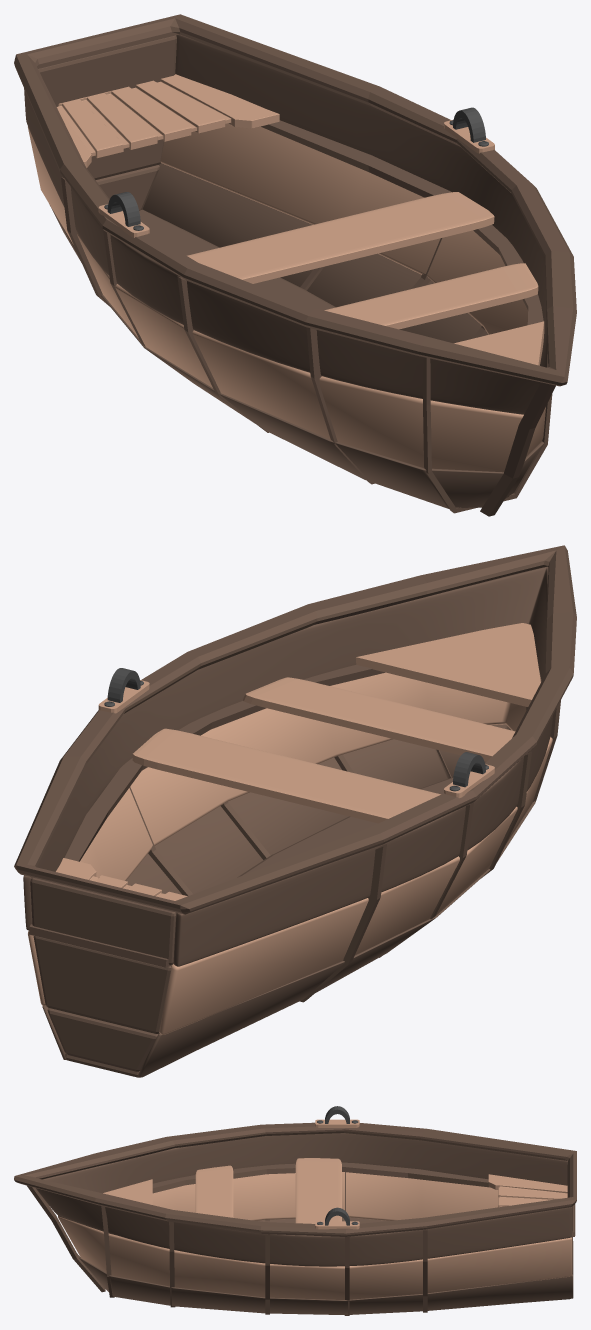
File: boat.fbx
3 renders of one model, top to bottom at view 1: azimuth 30°, elevation 25°; view 2: azimuth 150°, elevation 25°; view 3: azimuth 270°, elevation 25°, orthographic. The views are drawn at different scales.
Parts seen in each view (by area): view 1: Cube.009, Cube.008, Cube.002, Cube.010, Cube.004, Cube.014, Cube.005, Cube.003, Cube.011, Cube.001, Cube, Plane (+5 smaller); view 2: Cube.008, Cube.009, Cube.002, Cube.010, Cube.004, Cube.005, Cube.006, Cube.012, Cube.011, Cube.001, Cube.003, Cube.013 (+4 smaller); view 3: Cube.008, Cube.009, Cube.002, Cube.010, Cube.004, Cube.001, Cube.003, Cube.005, Cube.014, Plane, Cube.006, Cube.015 (+1 smaller).
Boxes of the visible parts, x1=… form: Cube.009: x1=28, y1=123, x2=545, y2=472; Cube.008: x1=24, y1=34, x2=548, y2=414; Cube.002: x1=14, y1=14, x2=576, y2=386; Cube.010: x1=50, y1=163, x2=543, y2=508; Cube.004: x1=187, y1=192, x2=494, y2=283; Cube.014: x1=57, y1=74, x2=279, y2=167; Cube.005: x1=324, y1=263, x2=538, y2=329; Cube.003: x1=61, y1=177, x2=552, y2=513; Cube.011: x1=38, y1=35, x2=176, y2=106; Cube.001: x1=261, y1=120, x2=543, y2=324; Cube: x1=139, y1=209, x2=482, y2=507; Plane: x1=480, y1=382, x2=555, y2=516; Cube.008: x1=23, y1=566, x2=553, y2=966; Cube.009: x1=28, y1=672, x2=552, y2=1034; Cube.002: x1=14, y1=545, x2=576, y2=914; Cube.010: x1=42, y1=724, x2=535, y2=1077; Cube.004: x1=132, y1=728, x2=440, y2=823; Cube.005: x1=243, y1=677, x2=515, y2=761; Cube.006: x1=355, y1=623, x2=540, y2=706; Cube.012: x1=33, y1=936, x2=171, y2=1033; Cube.011: x1=30, y1=877, x2=176, y2=964; Cube.001: x1=29, y1=664, x2=541, y2=967; Cube.003: x1=129, y1=700, x2=560, y2=1002; Cube.013: x1=47, y1=1008, x2=158, y2=1071; Cube.008: x1=36, y1=1133, x2=572, y2=1266; Cube.009: x1=58, y1=1172, x2=572, y2=1299; Cube.002: x1=14, y1=1122, x2=576, y2=1236; Cube.010: x1=79, y1=1217, x2=573, y2=1315; Cube.004: x1=295, y1=1158, x2=341, y2=1223; Cube.001: x1=58, y1=1162, x2=575, y2=1237; Cube.003: x1=101, y1=1172, x2=427, y2=1315; Cube.005: x1=195, y1=1165, x2=233, y2=1217; Cube.014: x1=488, y1=1174, x2=567, y2=1207; Plane: x1=27, y1=1185, x2=105, y2=1292; Cube.006: x1=103, y1=1179, x2=152, y2=1204; Cube.015: x1=315, y1=1119, x2=359, y2=1229.
Bounding box in the file's own units: 338 × 190 × 731.
